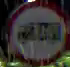Heavy Vehicles: (8, 1, 69, 62)
